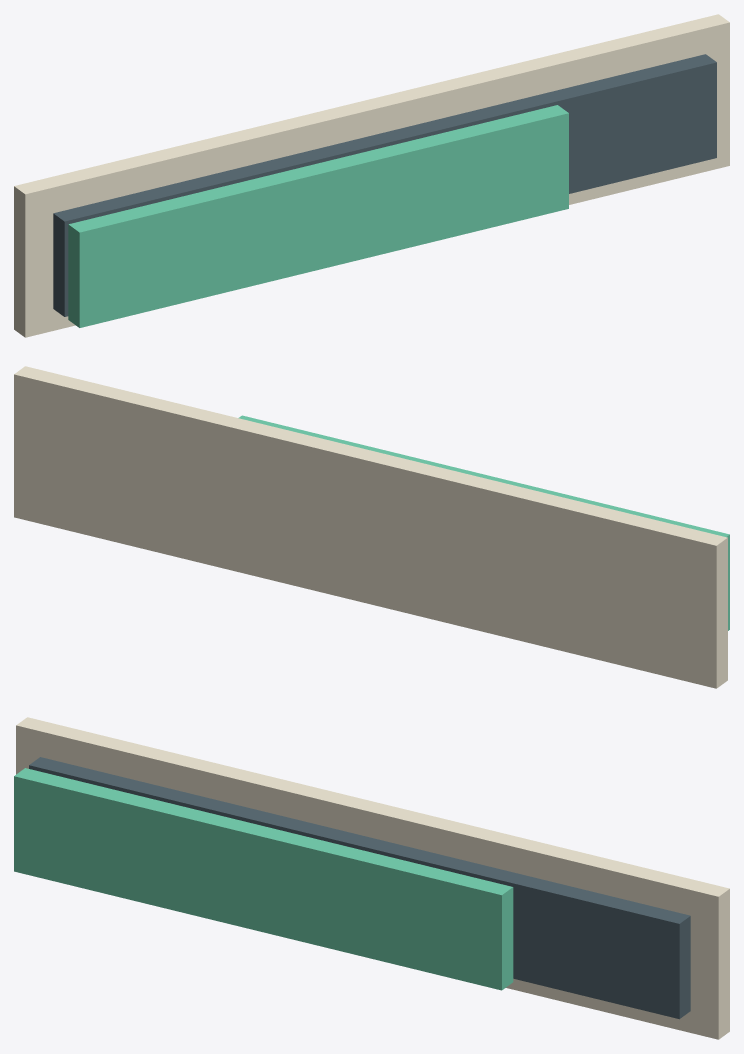
3 renders of one model, top to bottom at view 1: azimuth 30°, elevation 25°; view 2: azimuth 150°, elevation 25°; view 3: azimuth 330°, elevation 25°, orthographic.
Parts seen in each view (by area): view 1: fill, border, background; view 2: border, fill; view 3: fill, border, background.
Part boxes in pixels (bbox=[...]): fill: bbox=[68, 105, 568, 327]; border: bbox=[14, 14, 729, 337]; background: bbox=[53, 54, 716, 316]; border: bbox=[14, 366, 727, 688]; fill: bbox=[238, 415, 729, 630]; fill: bbox=[14, 768, 513, 990]; border: bbox=[16, 717, 729, 1039]; background: bbox=[29, 757, 690, 1019].
Bounding box in the file's own units: 1.08 × 0.21 × 0.105.
